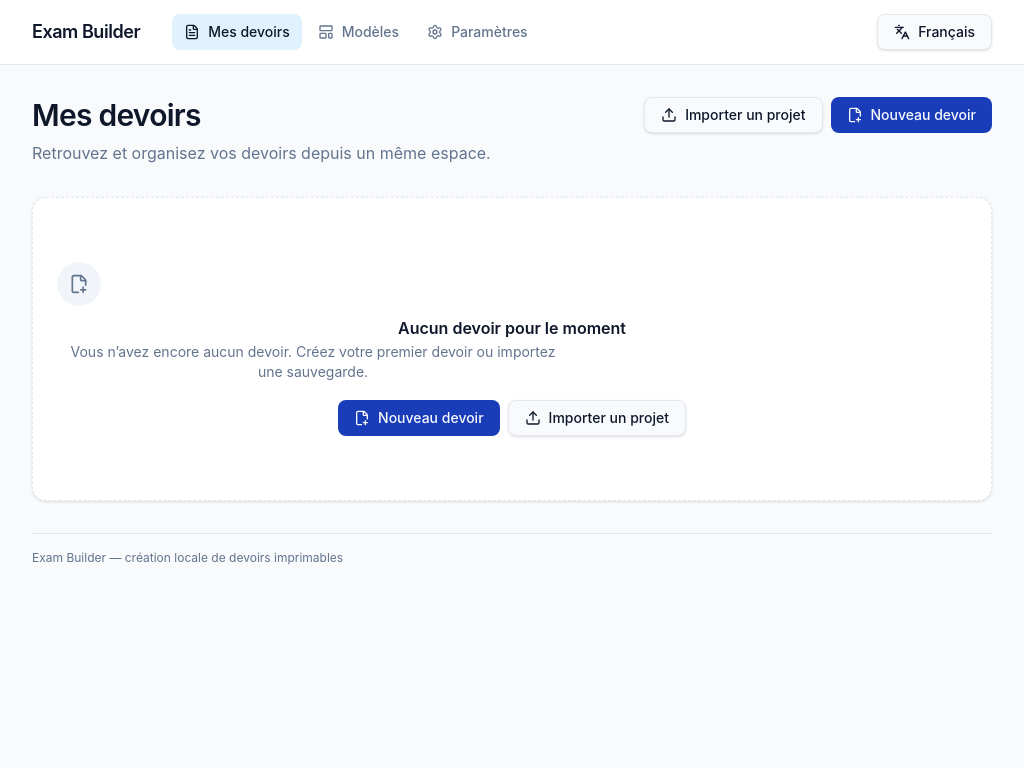
App foundation › switches the interface from French to Arabic
This screenshot has width=1024, height=768.
Expected: the heading "Mes devoirs" is shown, [32,97,201,133]
Click the button with aria-label "Changer la langue de l’interface": (935, 32) [877,14,992,50]
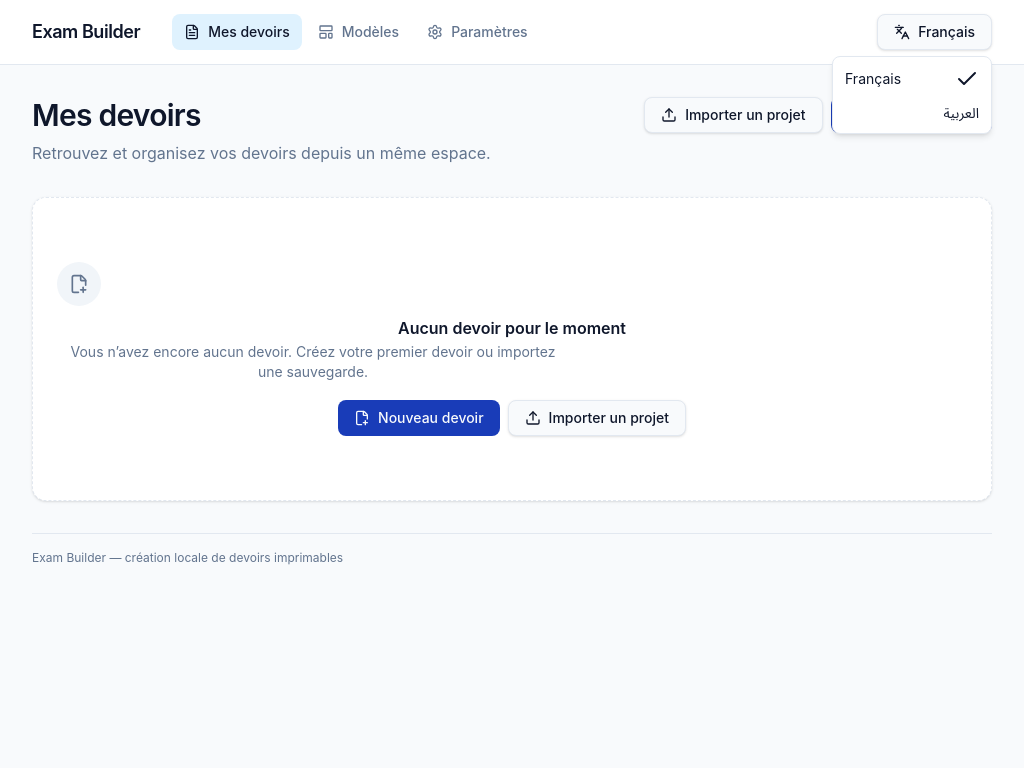
Click the menu item "العربية": (961, 112) [943,104,979,121]
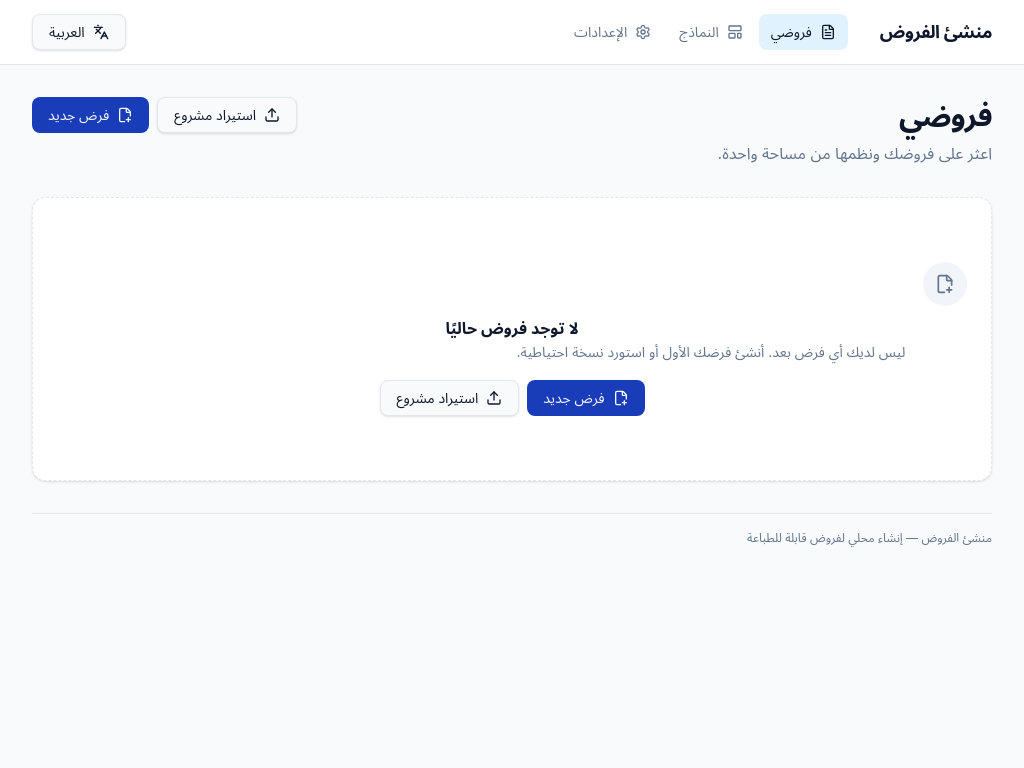
Expected: the heading "فروضي" is shown, [899,97,992,133]
Expected: the button with aria-label "تغيير لغة الواجهة" reads "العربية", [32,14,126,50]
